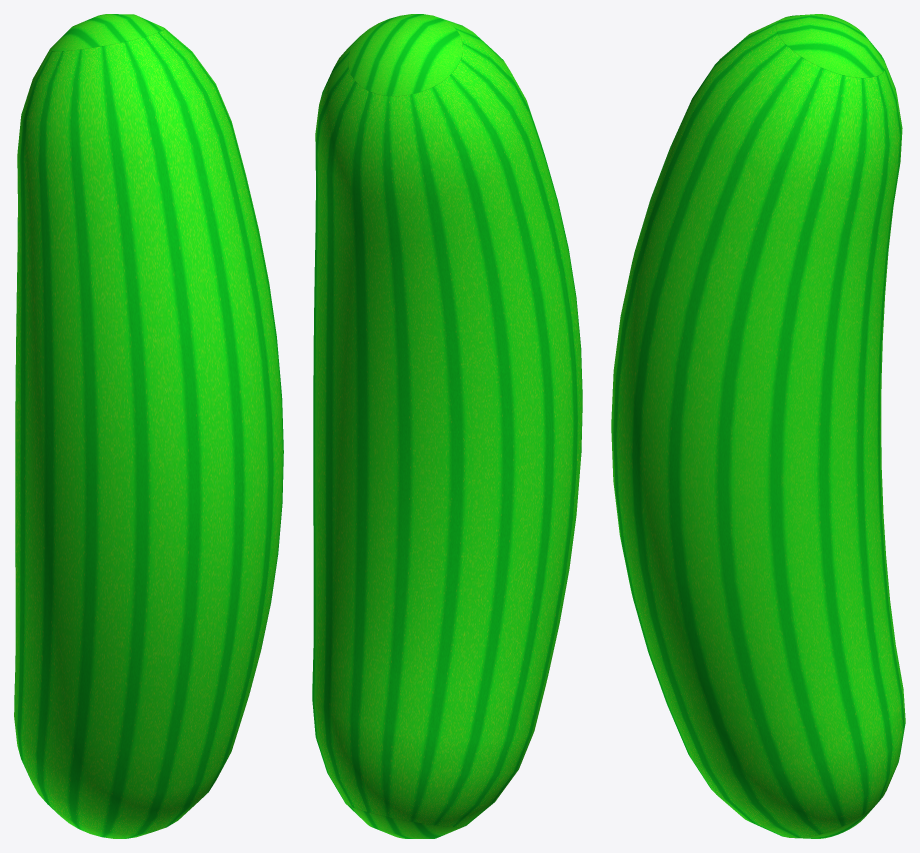
Rendered from Pickle.fbx.
3 views of the same model, side by side, from view 1: azimuth 30°, elevation 25°; view 2: azimuth 150°, elevation 25°; view 3: azimuth 270°, elevation 25° (orthographic).
Parts seen in each view (by area): view 1: Cylinder; view 2: Cylinder; view 3: Cylinder.
Part boxes in pixels (x1,y1,x2,y2): Cylinder: (14, 14, 283, 838); Cylinder: (312, 14, 582, 838); Cylinder: (611, 14, 905, 838).
Size of the model in its own units: 197 by 654 by 215.
